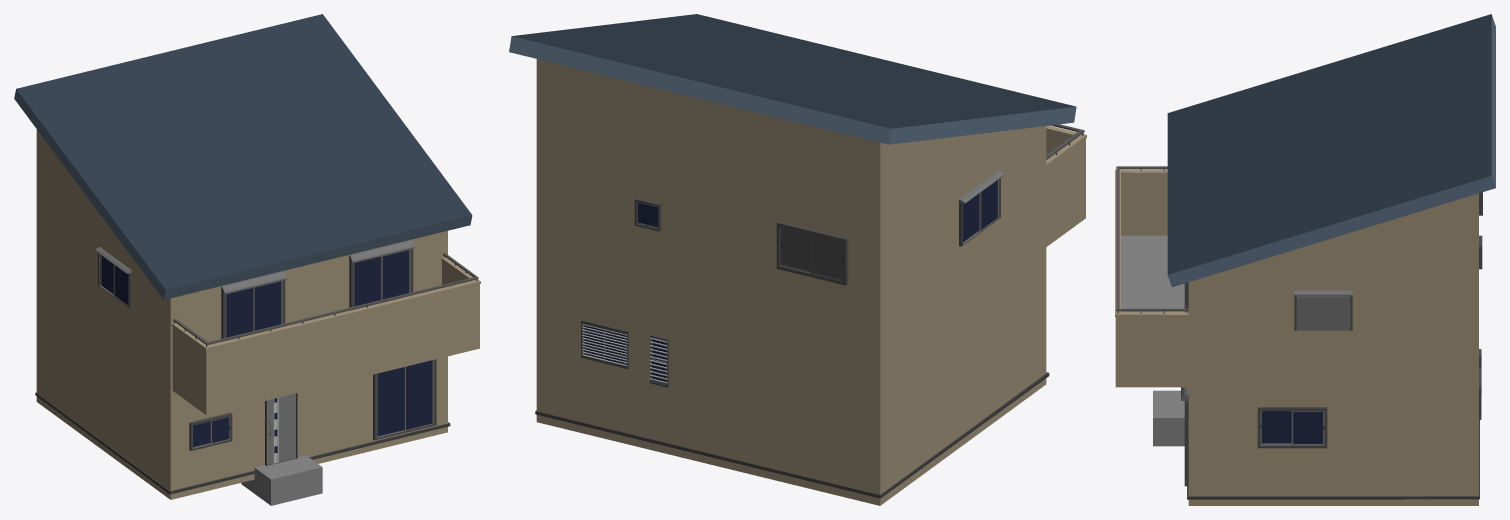
File: house6_middle.fbx
3 views of the same model, side by side, from view 1: azimuth 30°, elevation 25°; view 2: azimuth 150°, elevation 25°; view 3: azimuth 270°, elevation 25° (orthographic). The views are drawn at different scales.
Parts seen in each view (by area): view 1: pCube79; view 2: pCube79; view 3: pCube79.
Boxes of the visible parts, x1,y1,x2,y2 form: pCube79: (14, 14, 480, 505); pCube79: (509, 14, 1086, 505); pCube79: (1115, 14, 1495, 505).
Bounding box in the file's own units: 10.63 × 10.82 × 10.57.
